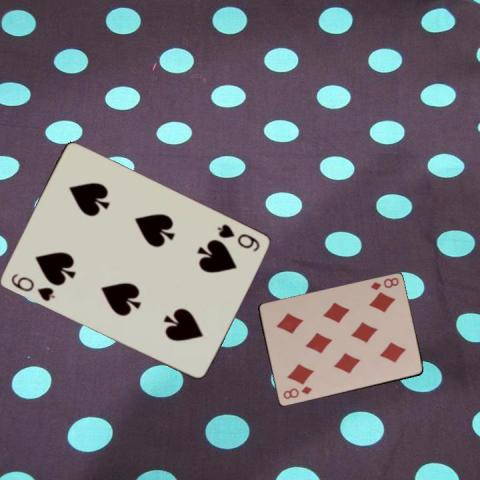6s: (7, 270, 56, 303), (213, 221, 261, 253)
8d: (280, 383, 313, 401), (368, 275, 400, 291)
